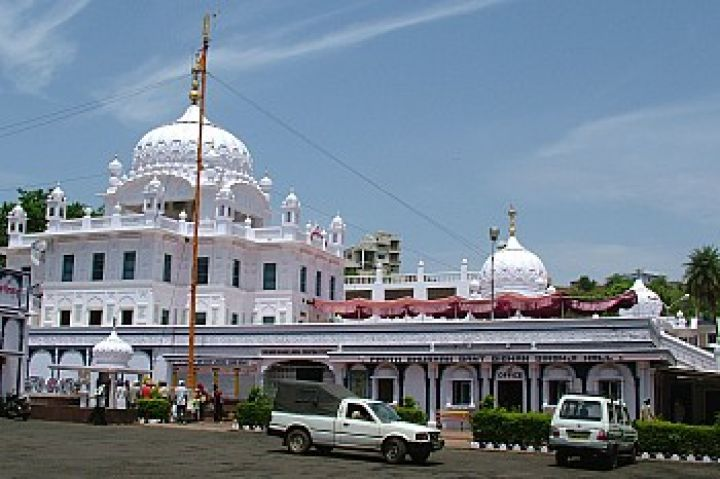Gurdwara: (32, 21, 652, 441)
